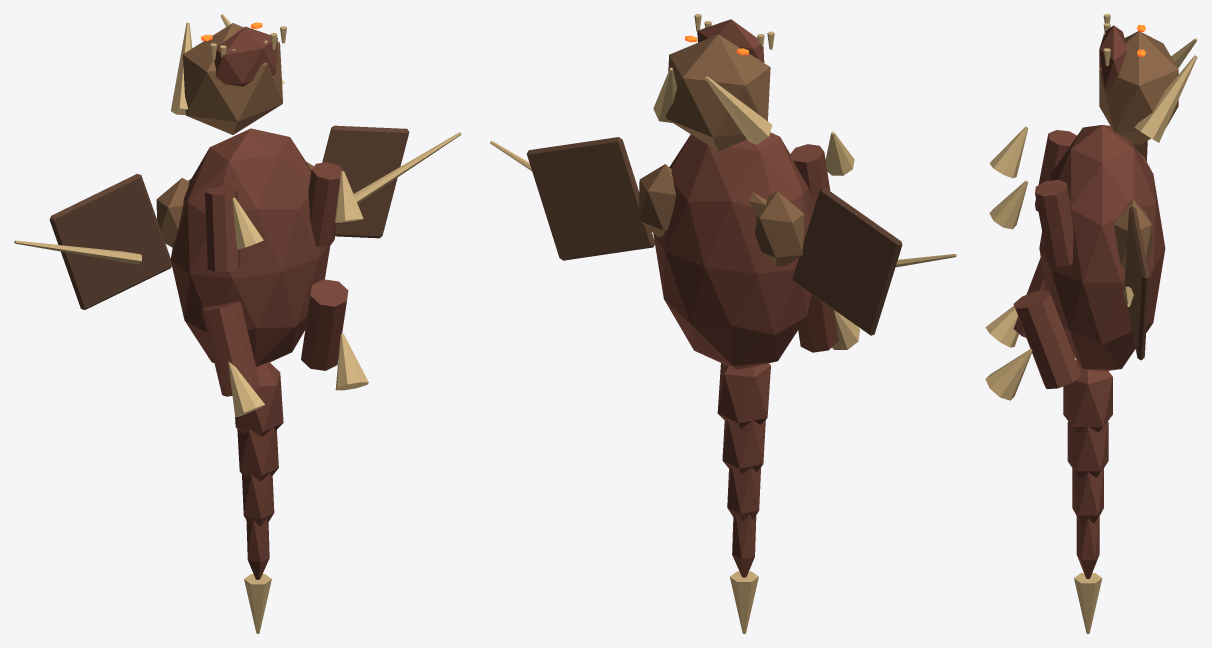
Rendered from monster.glb.
3 renders of one model, left to right at view 1: azimuth 30°, elevation 25°; view 2: azimuth 150°, elevation 25°; view 3: azimuth 270°, elevation 25°, orthographic. The views are drawn at different scales.
Visible parts, largest first — view 1: body, wing_membrane_l, tail, head_plates, wing_membrane_r, hind_leg_l, hind_leg_r, jaw, front_leg_l, front_leg_r, shoulder_plate_l, hind_claw_r (+7 smaller); view 2: body, wing_membrane_r, wing_membrane_l, head_plates, tail, shoulder_plate_l, shoulder_plate_r, hind_leg_l, horn_l, front_leg_l, jaw, tail_spike (+3 smaller); view 3: body, tail, head_plates, hind_leg_r, front_leg_r, wing_membrane_r, horn_r, jaw, hind_claw_r, shoulder_plate_r, front_leg_l, tail_spike (+4 smaller).
Boxes of the visible parts, x1,y1,x2,y2 form: body: (170, 128, 330, 366); wing_membrane_l: (49, 173, 171, 309); tail: (235, 362, 283, 579); head_plates: (183, 23, 282, 134); wing_membrane_r: (322, 125, 409, 238); hind_leg_l: (201, 301, 260, 396); hind_leg_r: (301, 279, 348, 370); jaw: (214, 26, 277, 86); front_leg_l: (205, 186, 240, 271); front_leg_r: (308, 162, 343, 247); shoulder_plate_l: (156, 177, 189, 247); hind_claw_r: (335, 333, 368, 390); body: (653, 132, 813, 369); wing_membrane_r: (527, 137, 655, 260); wing_membrane_l: (792, 187, 902, 335); head_plates: (666, 34, 770, 151); tail: (717, 363, 770, 577); shoulder_plate_l: (755, 191, 804, 266); shoulder_plate_r: (638, 164, 676, 237); hind_leg_l: (798, 294, 838, 352); horn_l: (705, 76, 772, 144); front_leg_l: (790, 144, 830, 209); jaw: (697, 19, 764, 62); tail_spike: (730, 571, 758, 633); body: (1039, 125, 1165, 371); tail: (1063, 360, 1112, 578); head_plates: (1099, 31, 1178, 144); hind_leg_r: (1013, 290, 1081, 388); front_leg_r: (1035, 179, 1073, 266); wing_membrane_r: (1124, 206, 1149, 360); horn_r: (1134, 55, 1197, 142); jaw: (1099, 25, 1127, 89); hind_claw_r: (985, 349, 1032, 400); shoulder_plate_r: (1114, 199, 1151, 269); front_leg_l: (1035, 130, 1076, 211); tail_spike: (1074, 573, 1102, 633).
Bounding box in the file's own units: 12.89 × 16.5 × 5.22.
